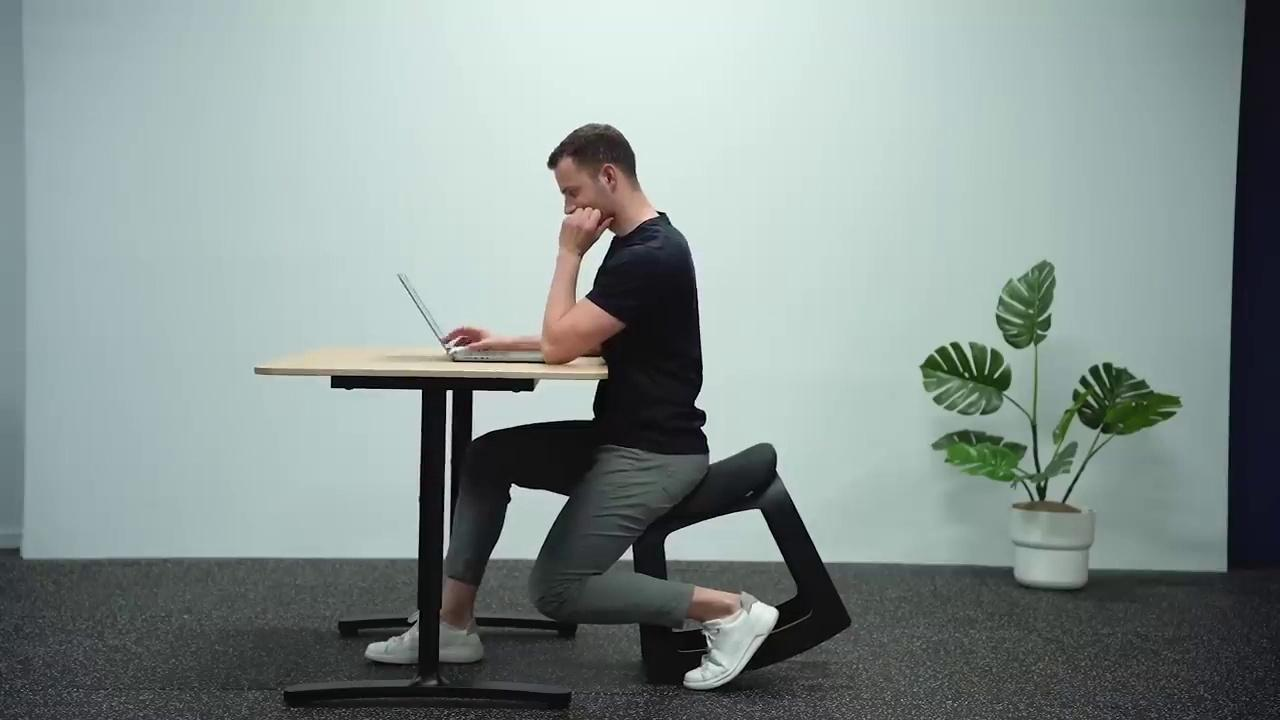GoodPosture: (439, 124, 779, 690)
